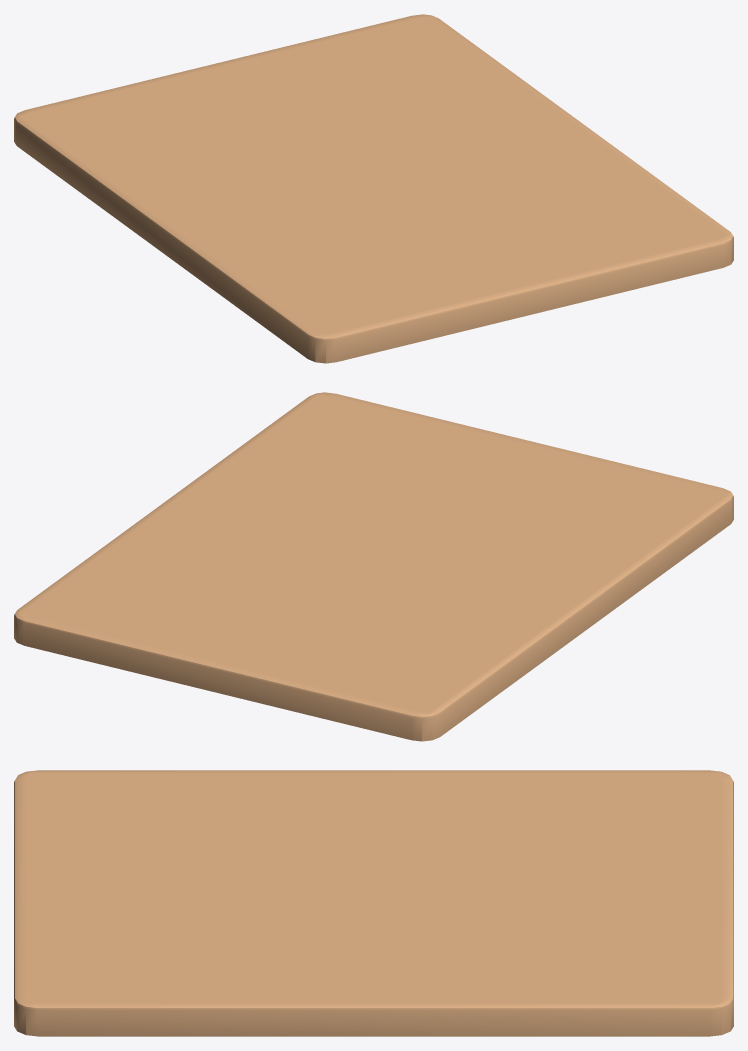
The model's file is yemek_alti_masa.fbx.
3 views of the same model, one above another, from view 1: azimuth 30°, elevation 25°; view 2: azimuth 150°, elevation 25°; view 3: azimuth 270°, elevation 25° (orthographic). The views are drawn at different scales.
Visible parts, largest first — view 1: Plane.002; view 2: Plane.002; view 3: Plane.002.
Boxes of the visible parts, x1=… form: Plane.002: x1=14, y1=14, x2=733, y2=363; Plane.002: x1=14, y1=392, x2=733, y2=741; Plane.002: x1=14, y1=770, x2=733, y2=1036.
Size of the model in its own units: 157 by 8.84 by 200.
